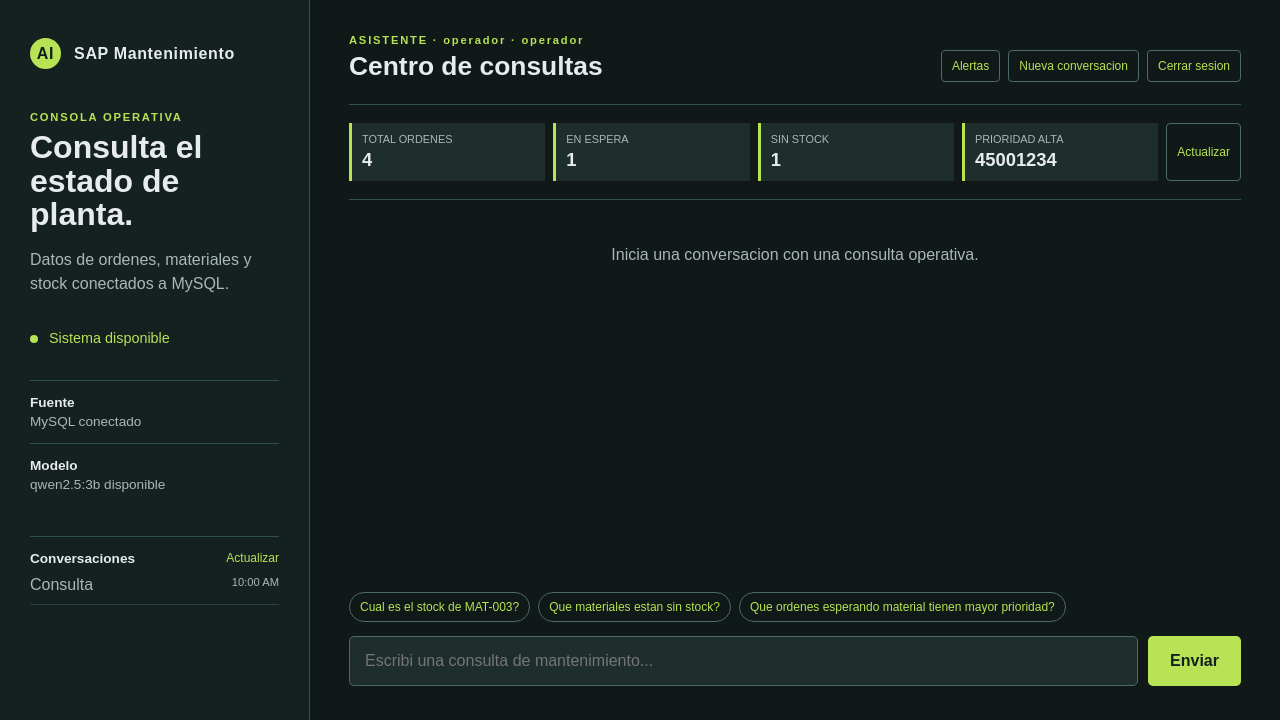
Test: App › elimina la conversacion activa despues de confirmar
(page scrolled)
Click the button "Consulta 10:00 AM" at (154, 585), box top-left (30, 566), bottom-right (279, 605)
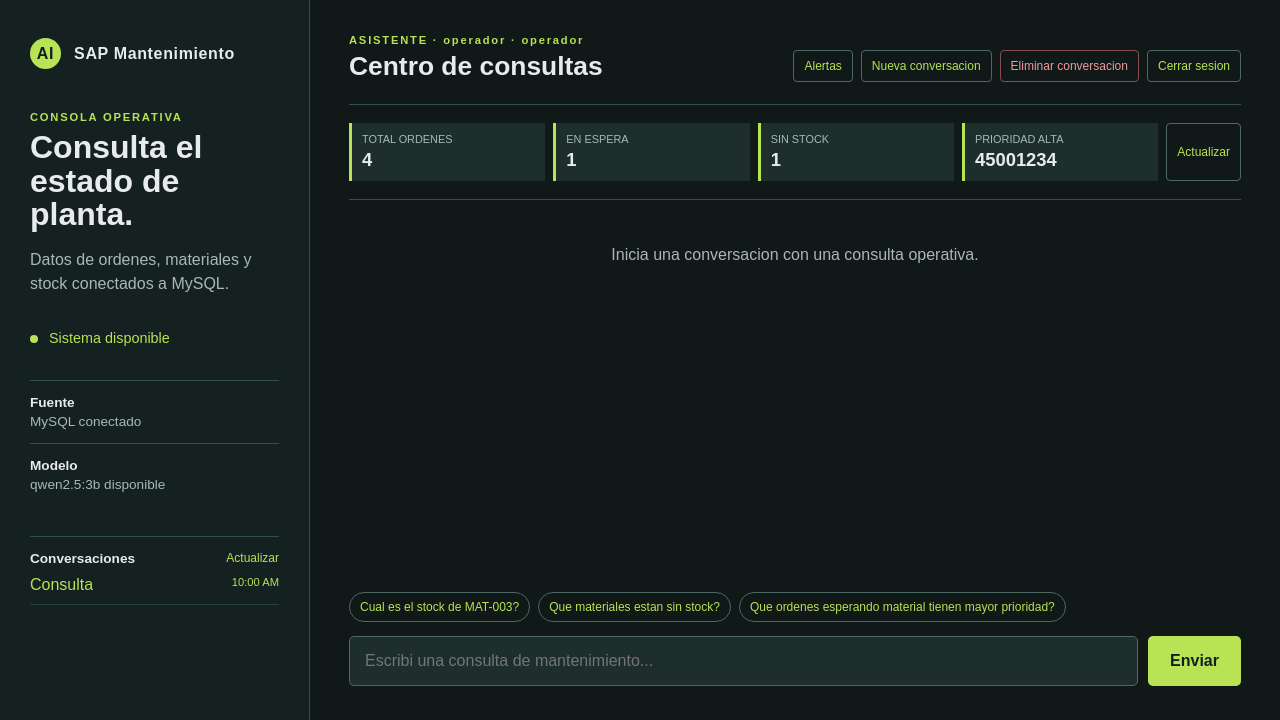
Now the button "Eliminar conversacion" is shown
Click the button "Eliminar conversacion" at (1069, 66), box top-left (1000, 50), bottom-right (1139, 82)
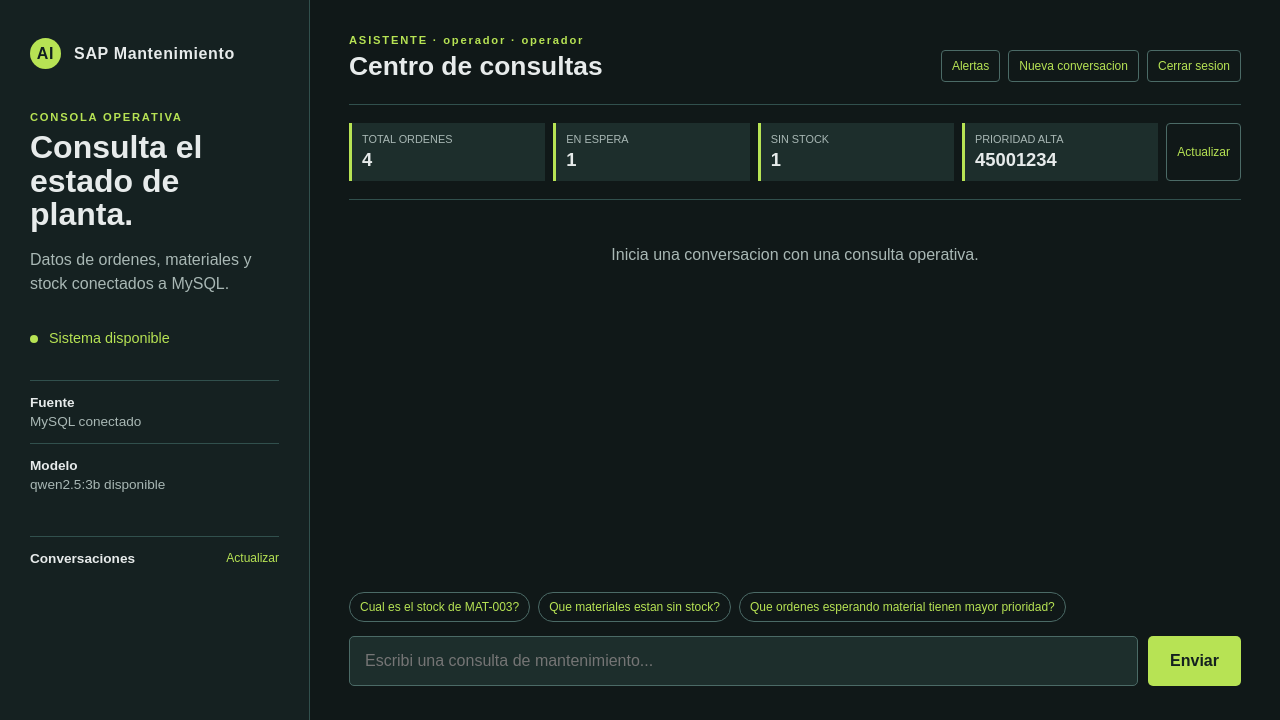
Expected: the text "Inicia una conversacion con una consulta operativa." is shown, top-left (611, 246), bottom-right (979, 263)
Now the button "Eliminar conversacion" is gone
